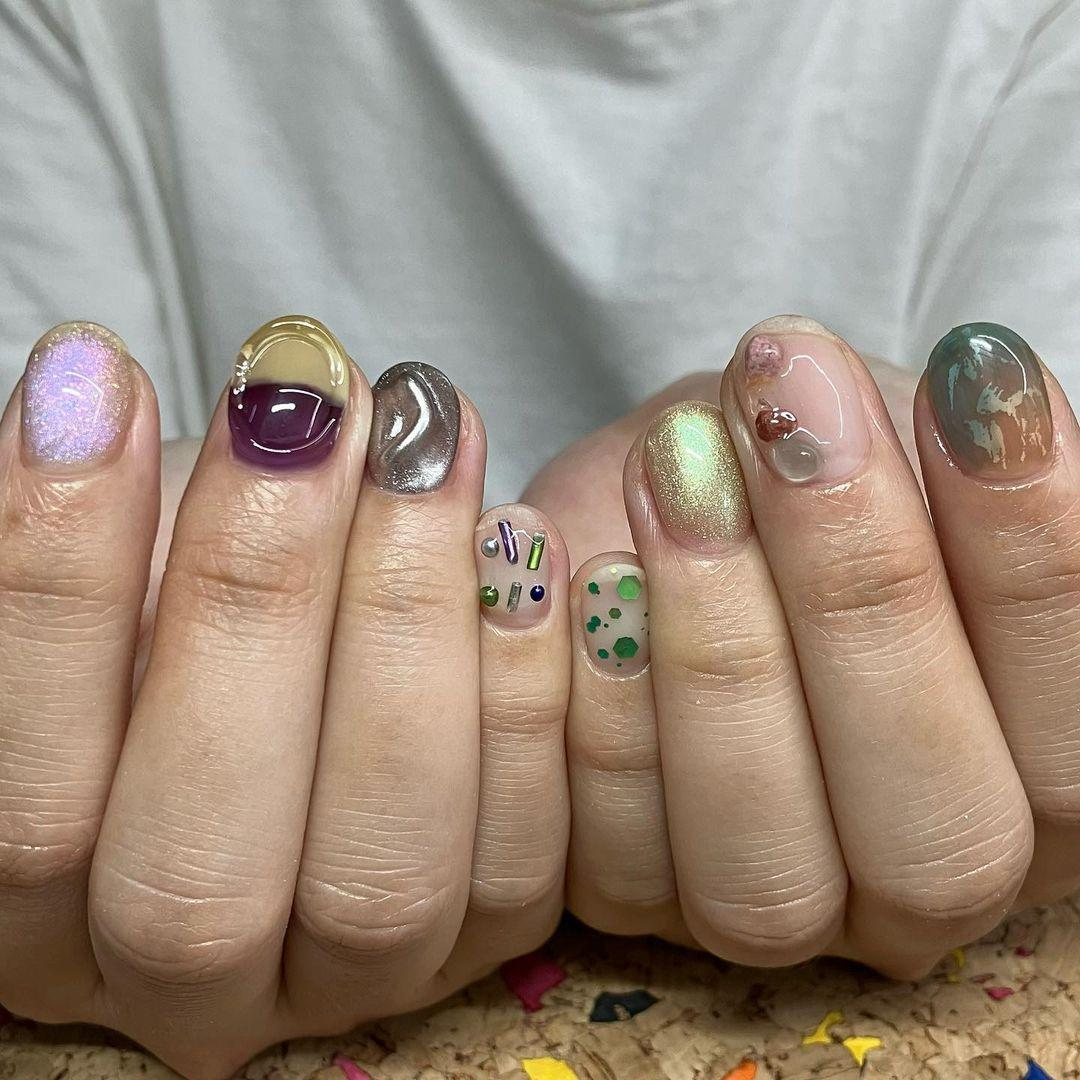nail: (920, 320, 1057, 487), (225, 312, 351, 467), (18, 319, 138, 472), (640, 398, 753, 555), (365, 359, 461, 494), (570, 550, 651, 679), (474, 505, 554, 628)
